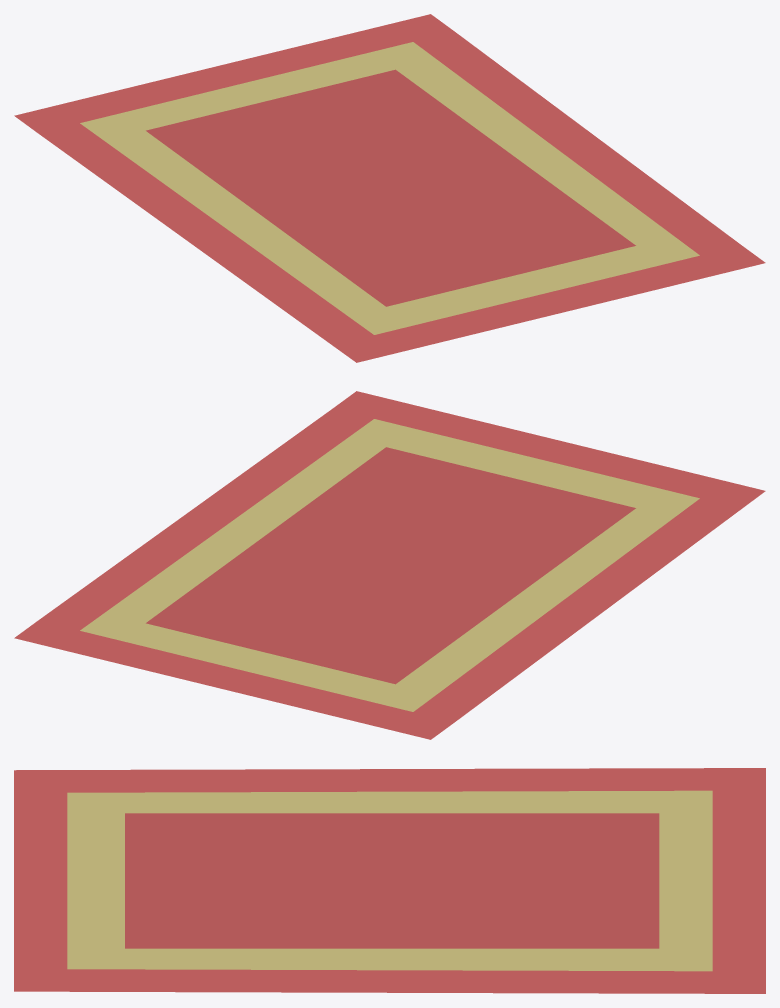
The model's file is Alfombra.fbx.
3 renders of one model, top to bottom at view 1: azimuth 30°, elevation 25°; view 2: azimuth 150°, elevation 25°; view 3: azimuth 270°, elevation 25°, orthographic. The views are drawn at different scales.
Parts seen in each view (by area): view 1: Plano; view 2: Plano; view 3: Plano.
Part boxes in pixels (x1=…): Plano: x1=14, y1=14, x2=765, y2=362; Plano: x1=14, y1=391, x2=765, y2=739; Plano: x1=14, y1=768, x2=765, y2=993.
Size of the model in its own units: 1000 by 0.000229 by 1408.
